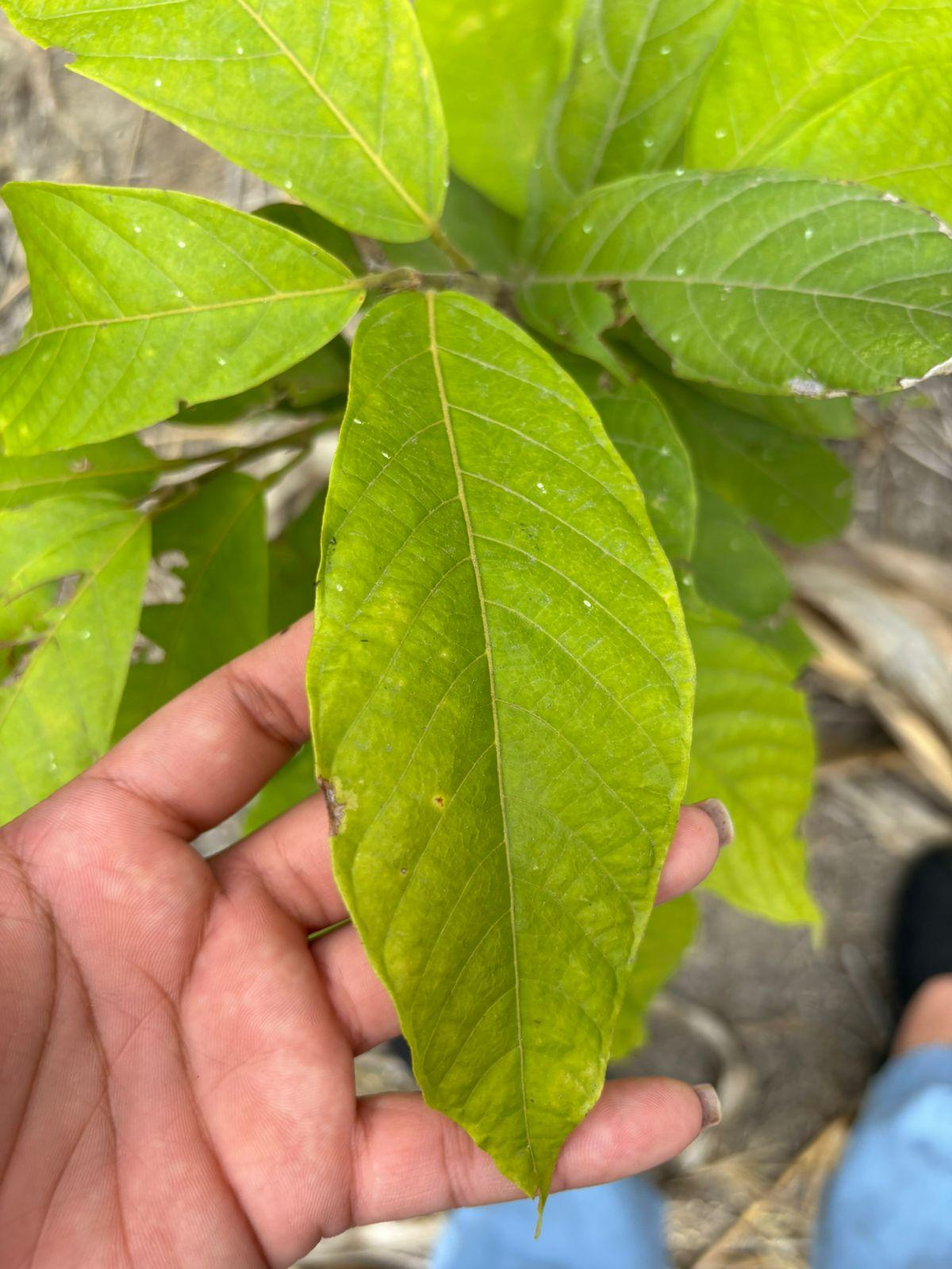Nitrogeno: (0, 0, 447, 242)
